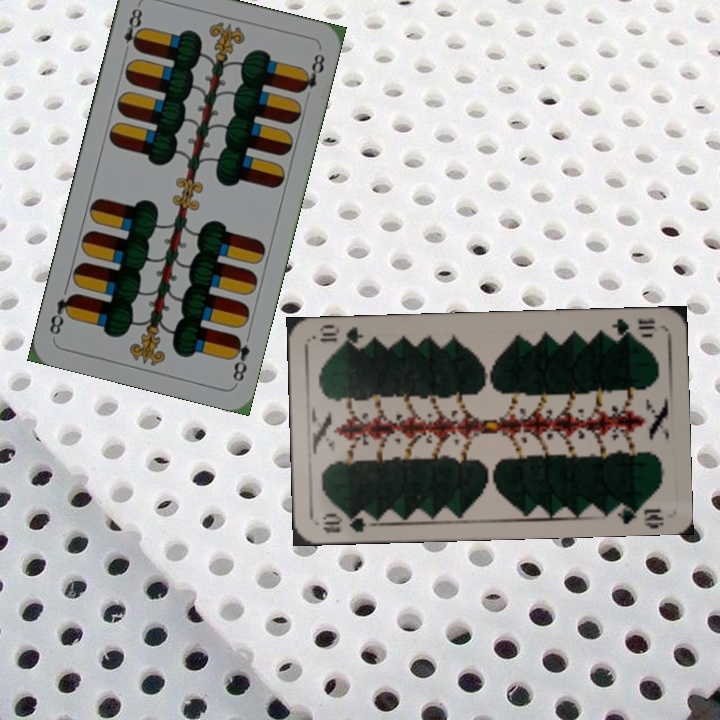E8: (119, 1, 146, 58), (226, 331, 253, 384)
G10: (602, 314, 658, 342), (318, 508, 376, 535)
